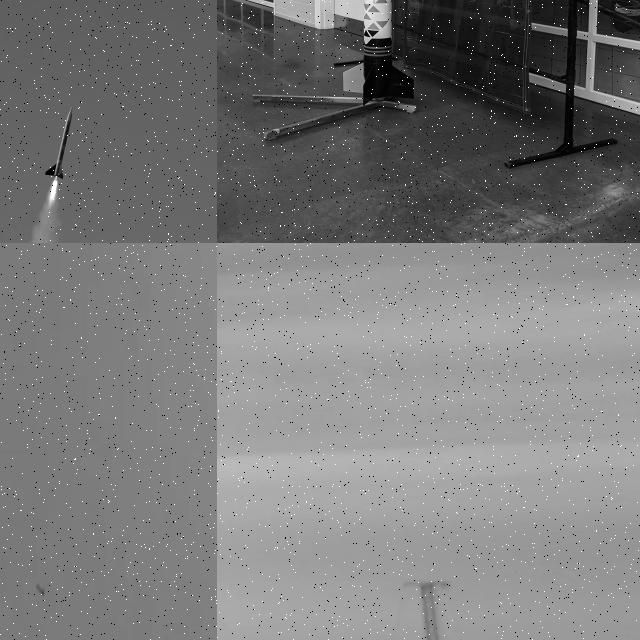Rocket: (343, 0, 414, 106), (44, 107, 73, 180), (36, 584, 44, 596)
